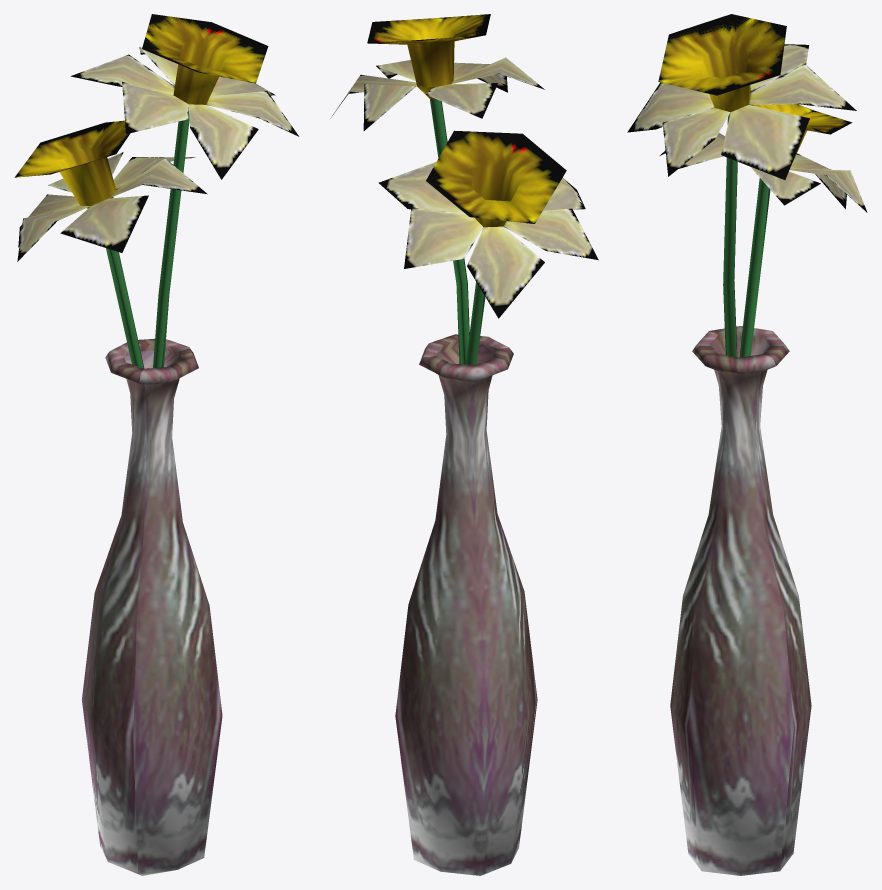
Rendered from DaffodilVase_DAFFODIL_VASE.dae.
3 views of the same model, side by side, from view 1: azimuth 30°, elevation 25°; view 2: azimuth 150°, elevation 25°; view 3: azimuth 270°, elevation 25° (orthographic). The views are drawn at different scales.
Visible parts, largest first — view 1: mesh1, mesh0, mesh2; view 2: mesh1, mesh0, mesh2; view 3: mesh1, mesh0, mesh2.
Boxes of the visible parts, box(x1,y1,x2,y2) form: mesh1: box(82, 338, 222, 875); mesh0: box(14, 14, 299, 368); mesh2: box(82, 339, 221, 875); mesh1: box(395, 334, 537, 875); mesh0: box(330, 14, 598, 365); mesh2: box(397, 334, 536, 874); mesh1: box(670, 326, 811, 875); mesh0: box(627, 14, 867, 357); mesh2: box(670, 326, 811, 874).
Size of the model in its own units: 0.1566 by 0.4973 by 0.1278.
